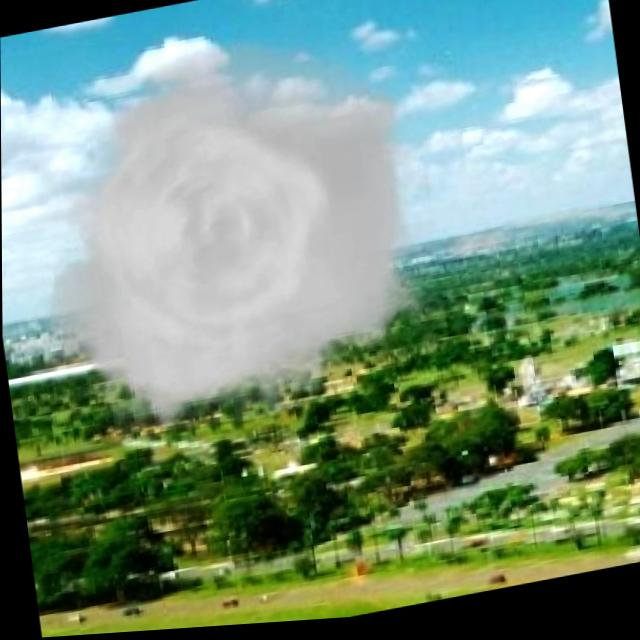Smoke: (5, 53, 424, 441)
